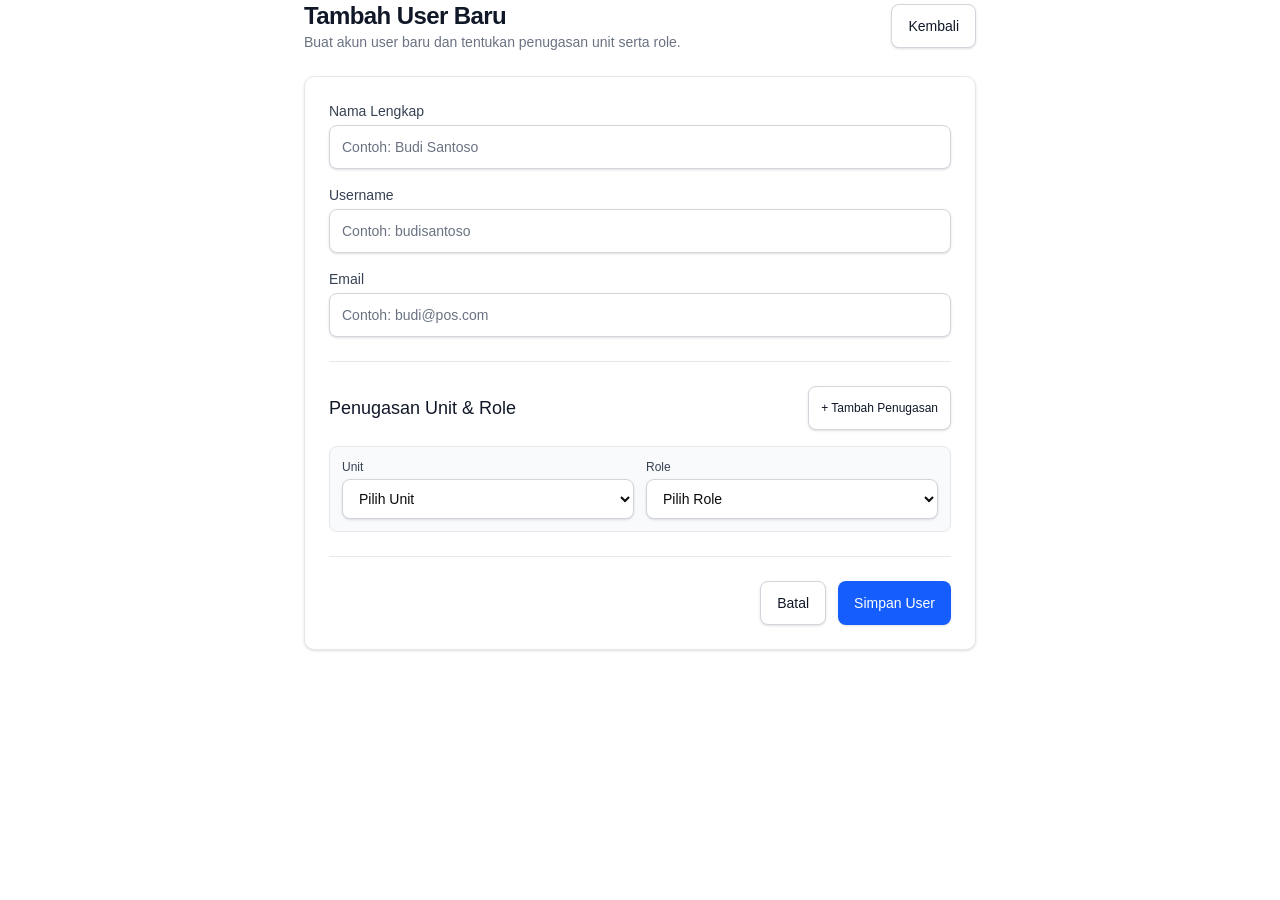
CreateUserPage › validates form inputs and submits successfully
Expected: the heading "Tambah User Baru" is shown, top-left (304, 2), bottom-right (506, 29)
In the field with placeholder "Contoh: Budi Santoso": (640, 147) top-left (329, 125), bottom-right (951, 169), type "Ani"
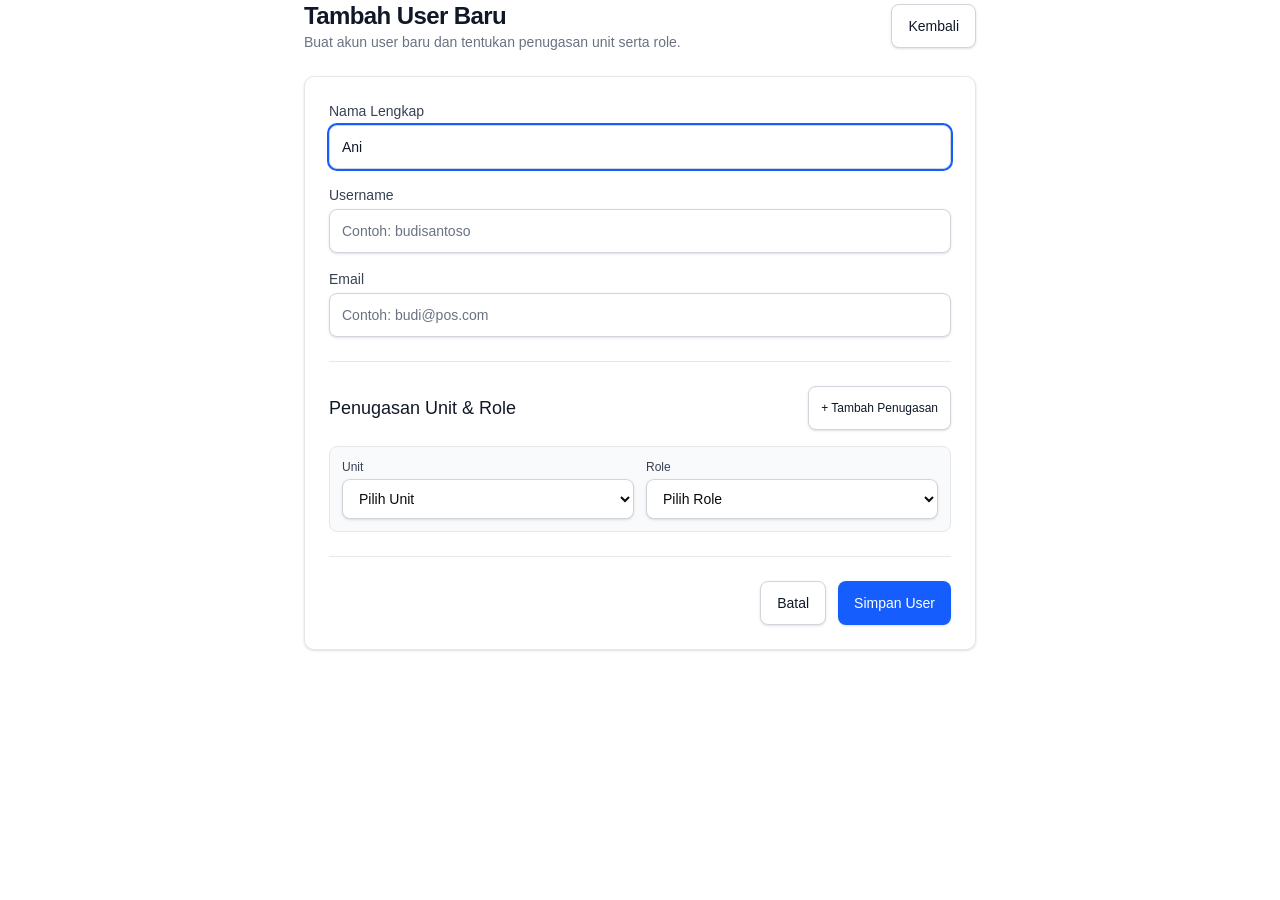
In the field with placeholder "Contoh: budisantoso": (640, 231) top-left (329, 209), bottom-right (951, 253), type "ani"
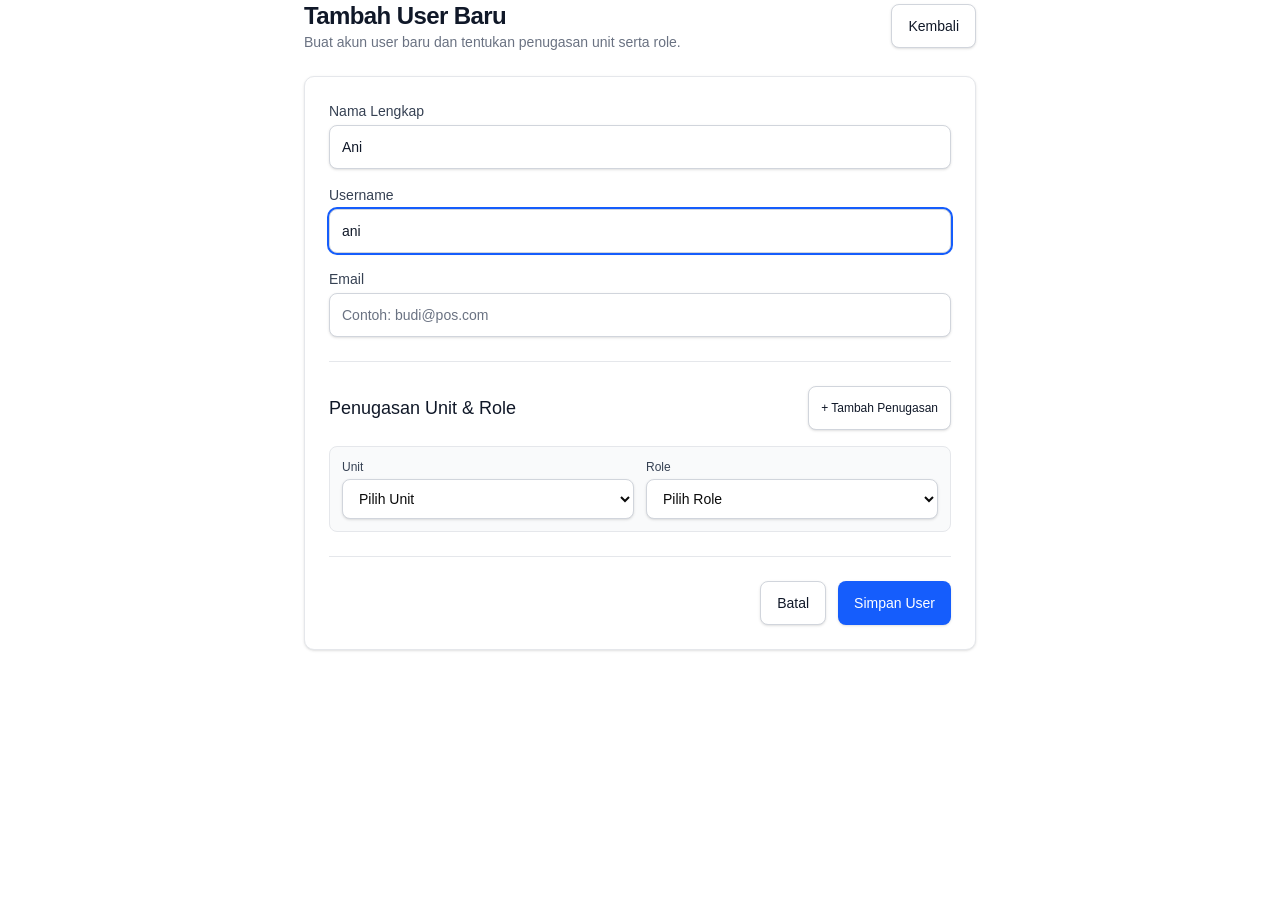
In the field with placeholder "Contoh: budi@pos.com": (640, 315) top-left (329, 293), bottom-right (951, 337), type "ani@pos.com"
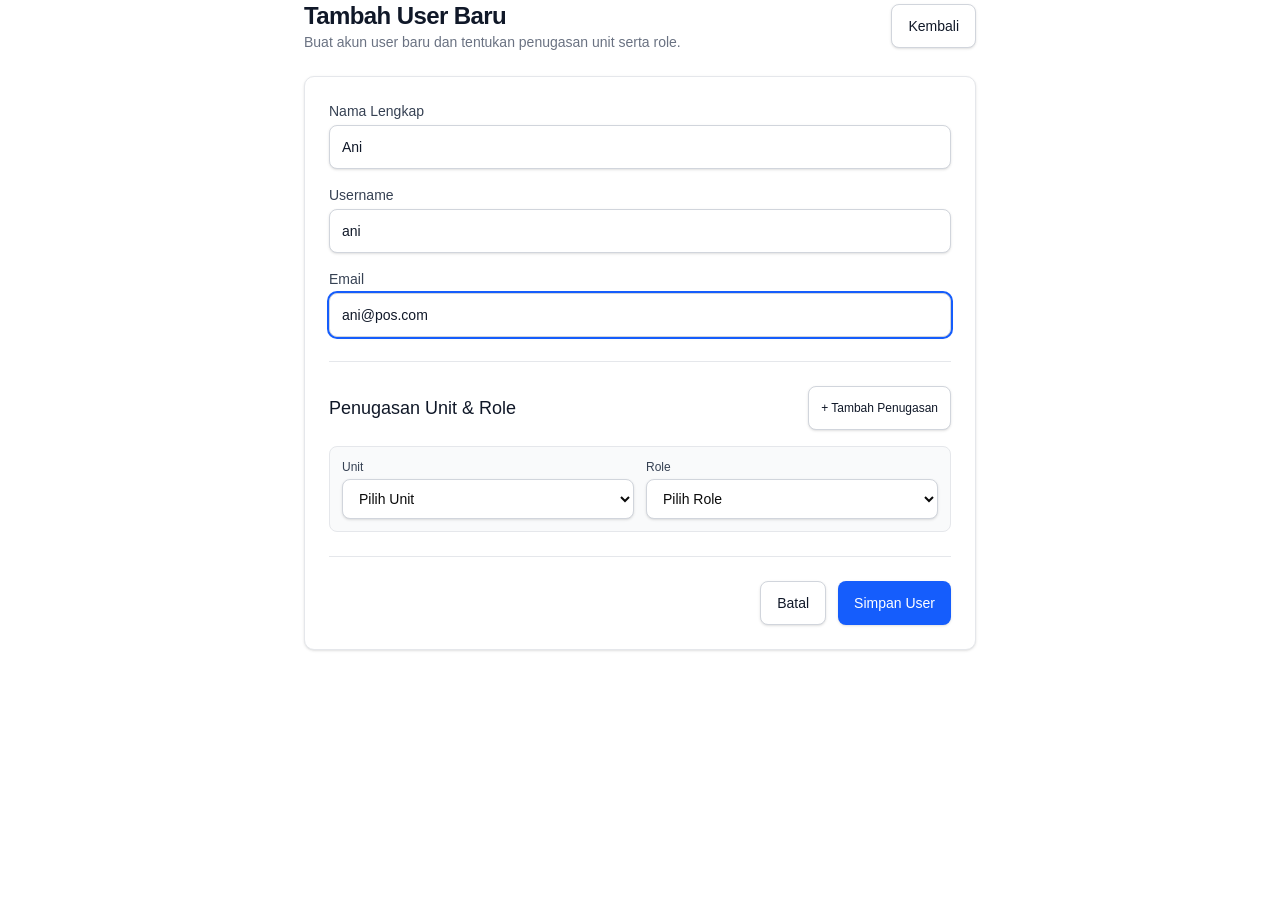
Select "Cabang A" in the dropdown labelled "Unit": (488, 499) top-left (342, 479), bottom-right (634, 519)
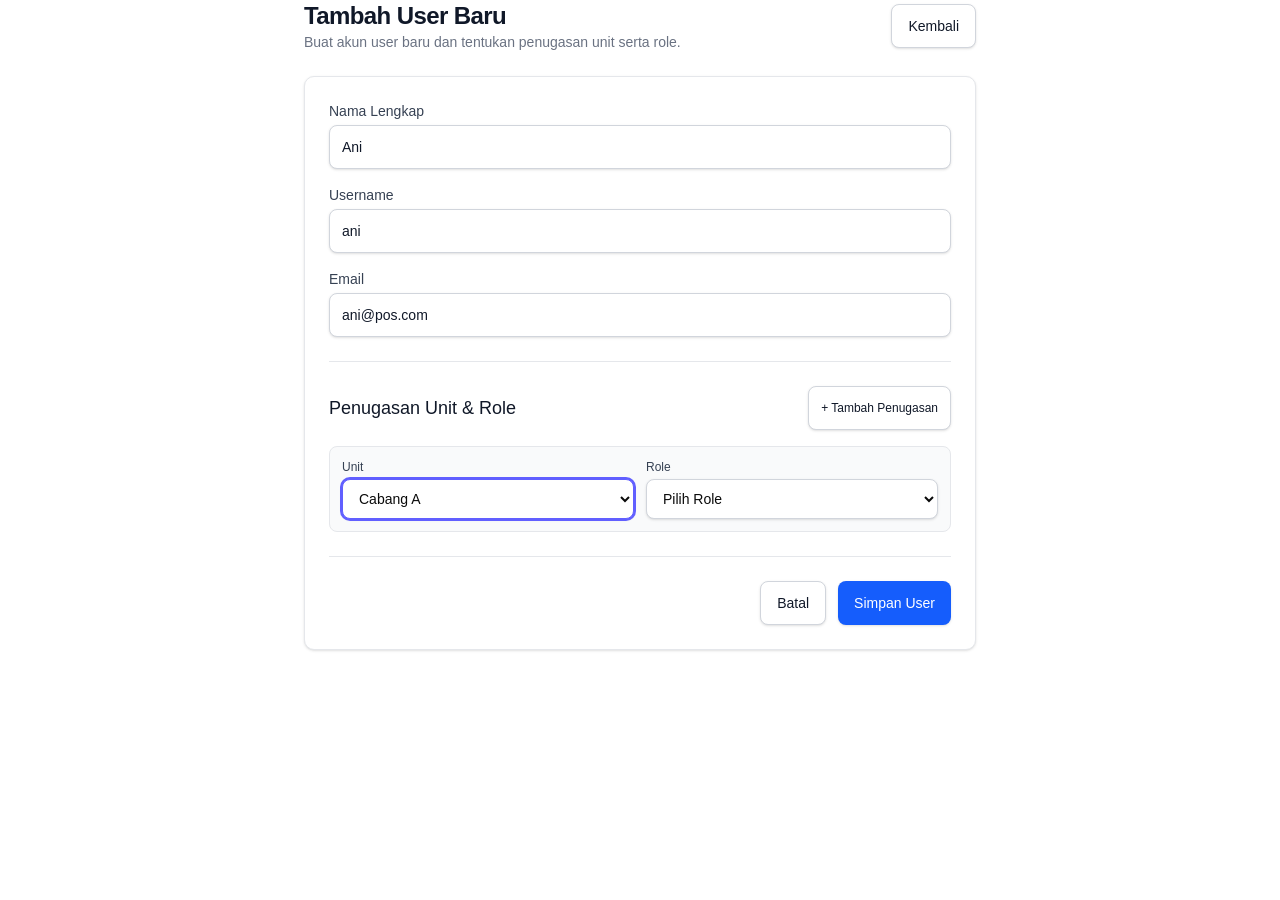
Select "Kasir" in the dropdown labelled "Role": (792, 499) top-left (646, 479), bottom-right (938, 519)
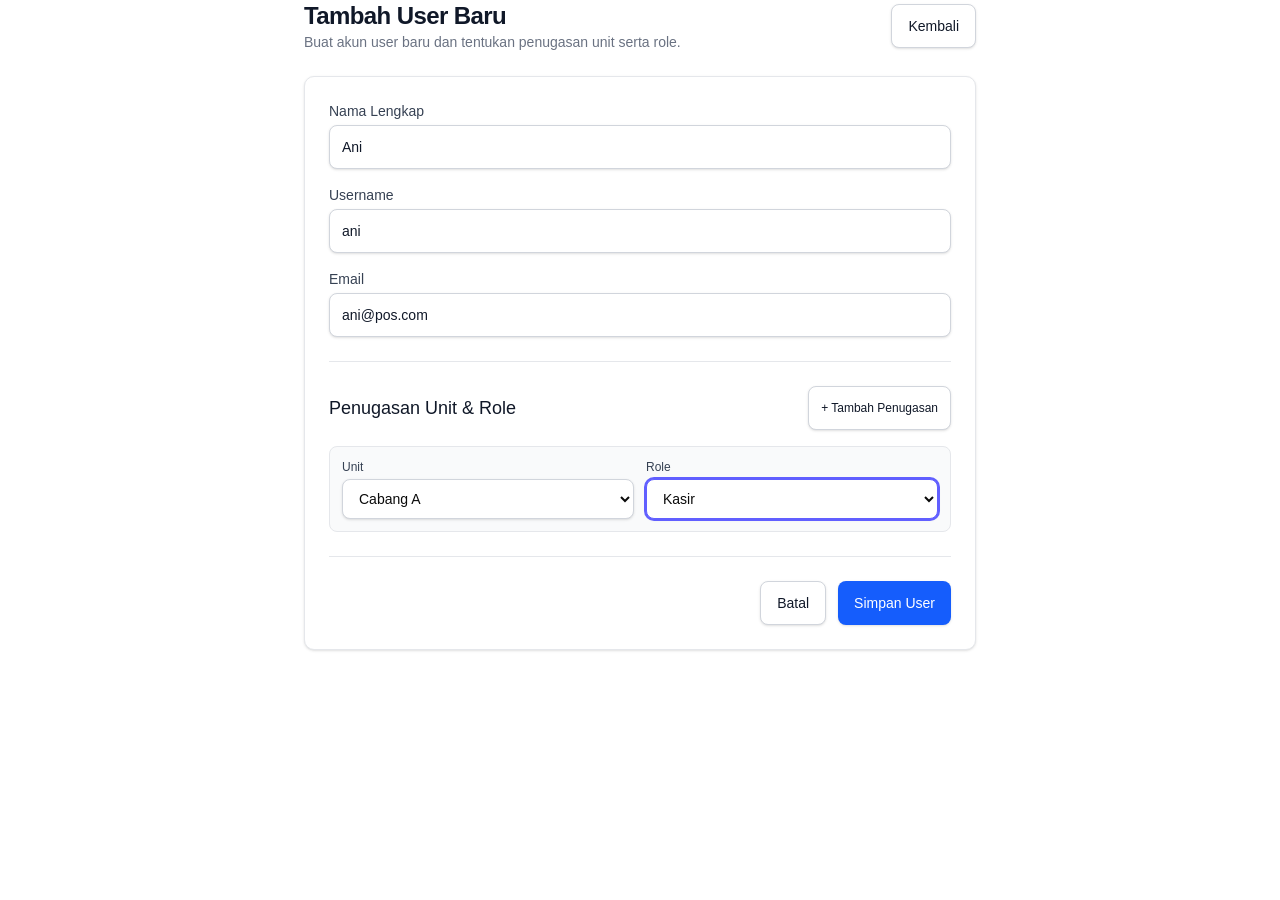
Click the button "Simpan User": (895, 603) top-left (838, 581), bottom-right (951, 625)
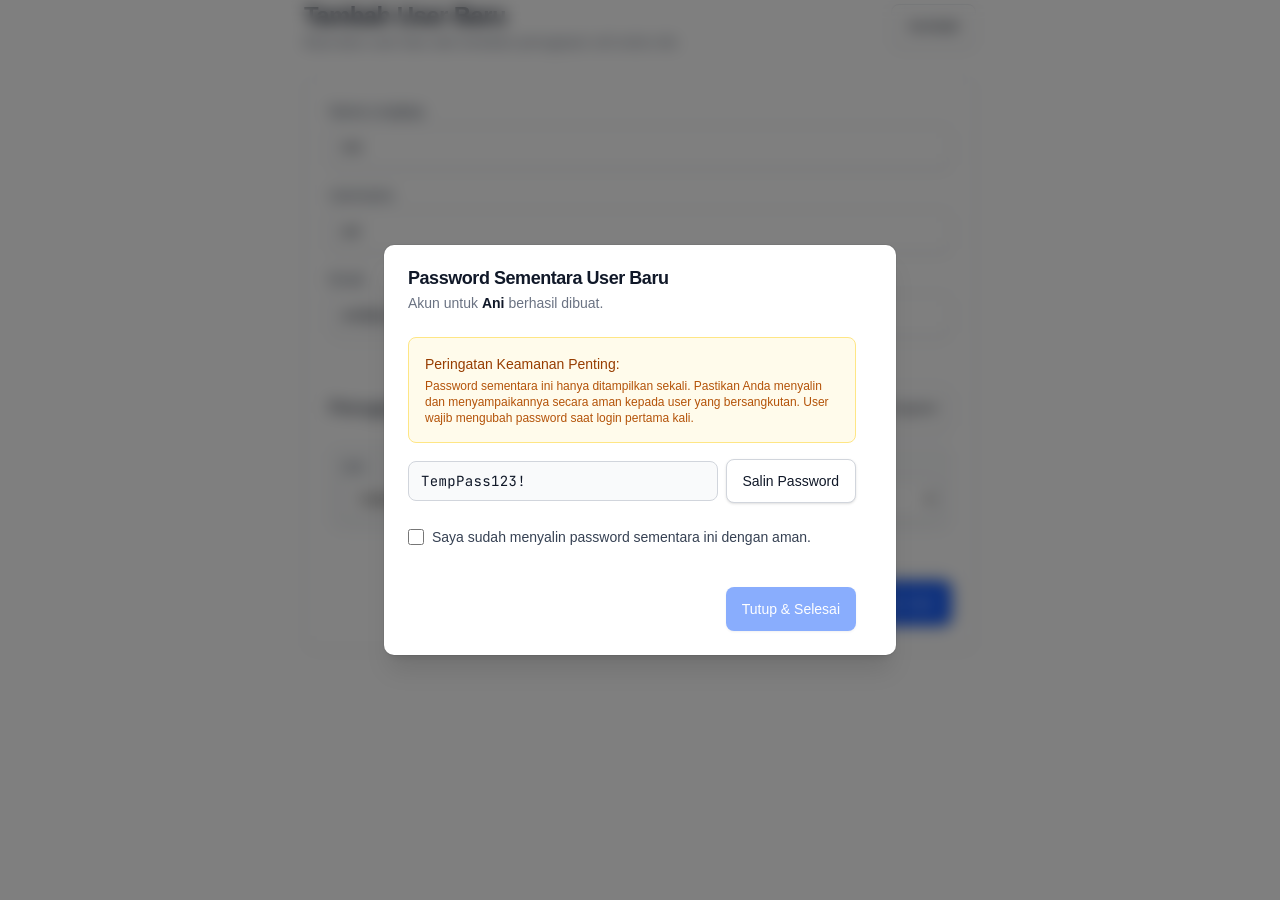
Result: the heading "Password Sementara User Baru" is shown at top-left (408, 268), bottom-right (668, 288)
Result: the field showing "TempPass123!" is shown at top-left (408, 461), bottom-right (718, 501)
